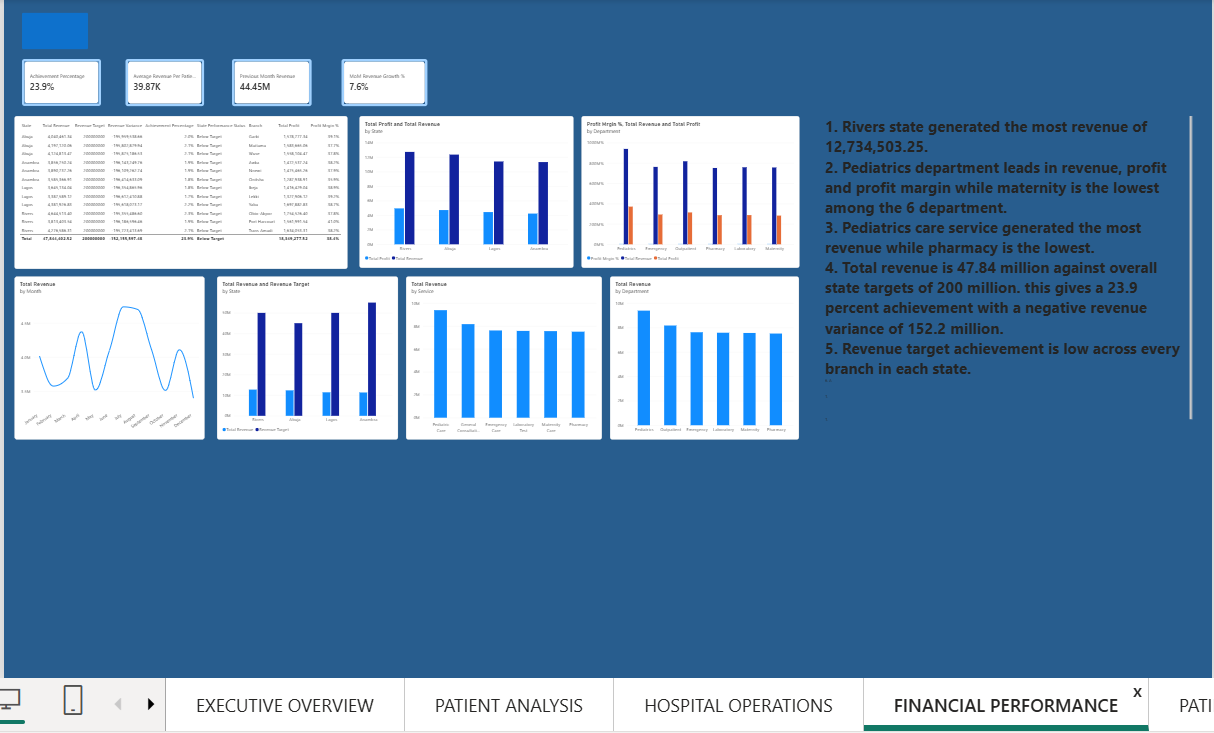

The page's visual inventory and layout, read from the dashboard file:
{"tool":"powerbi","page":{"name":"FINANCIAL PERFORMANCE","canvas":[3840,2160],"ordinal":3},"visuals":[{"type":"cardVisual","fields":{"Data":["Patient_Visits.Achievement Percentage"]},"box":[56.7,190,251.3,149.5],"z":0},{"type":"cardVisual","fields":{"Data":["Patient_Visits.Average Revenue Per Patients"]},"box":[386.7,190,250,150],"z":1000},{"type":"clusteredColumnChart","fields":{"Category":["Patient_Visits.State"],"Y":["Patient_Visits.Total Profit","Patient_Visits.Total Revenue"]},"box":[1129.3,372.2,680.8,483.5],"z":2000},{"type":"clusteredColumnChart","fields":{"Category":["Patient_Visits.Department"],"Y":["Patient_Visits.Total Revenue"]},"box":[1927.8,884.4,601.3,518.5],"z":3000},{"type":"clusteredColumnChart","fields":{"Category":["Patient_Visits.Service"],"Y":["Patient_Visits.Total Revenue"]},"box":[1278.9,884.4,623.5,518.5],"z":4000},{"type":"clusteredColumnChart","fields":{"Category":["Patient_Visits.Department"],"Y":["Patient_Visits.Profit Mrgin %","Patient_Visits.Total Revenue","Patient_Visits.Total Profit"]},"box":[1835.6,372.2,693.5,483.5],"z":5000},{"type":"lineChart","fields":{"Category":["Date_Table.Month"],"Y":["Patient_Visits.Total Revenue"]},"box":[35,884.4,604.4,518.5],"z":6000},{"type":"clusteredColumnChart","fields":{"Category":["State_Targets.State"],"Y":["Patient_Visits.Total Revenue","State_Targets.Revenue Target"]},"box":[677.6,884.4,575.8,518.5],"z":7000},{"type":"tableEx","fields":{"Values":["Patient_Visits.State","Patient_Visits.Total Revenue","State_Targets.Revenue Target","Patient_Visits.Revenue Variance","Patient_Visits.Achievement Percentage","State_Targets.State Performance Status","Patient_Visits.Branch","Patient_Visits.Total Profit","Patient_Visits.Profit Mrgin %"]},"box":[35,372.2,1059.3,486.7],"z":8000},{"type":"cardVisual","fields":{"Data":["Date_Table.MoM Revenue Growth %"]},"box":[1073.3,190,273.3,150],"z":9001},{"type":"cardVisual","fields":{"Data":["Date_Table.Previous Month Revenue"]},"box":[723.3,190,253.3,150],"z":9002},{"type":"actionButton","box":[57.3,41.4,210,117.7],"z":9003},{"type":"textbox","box":[2610.2,372.2,1169.1,1030.7],"z":9004}]}

Visuals, with their boxes on the page's 3840x2160 design canvas (x1, y1, x2, y2). These are canvas units, not pixel positions in the 1214x733 screenshot, which may show the page scaled, cropped or inside an application window:
cardVisual - Patient_Visits.Achievement Percentage: crop(57, 190, 308, 340)
cardVisual - Patient_Visits.Average Revenue Per Patients: crop(387, 190, 637, 340)
clusteredColumnChart - Patient_Visits.State x Patient_Visits.Total Profit: crop(1129, 372, 1810, 856)
clusteredColumnChart - Patient_Visits.Department x Patient_Visits.Total Revenue: crop(1928, 884, 2529, 1403)
clusteredColumnChart - Patient_Visits.Service x Patient_Visits.Total Revenue: crop(1279, 884, 1902, 1403)
clusteredColumnChart - Patient_Visits.Department x Patient_Visits.Profit Mrgin %: crop(1836, 372, 2529, 856)
lineChart - Date_Table.Month x Patient_Visits.Total Revenue: crop(35, 884, 639, 1403)
clusteredColumnChart - State_Targets.State x Patient_Visits.Total Revenue: crop(678, 884, 1253, 1403)
tableEx - Patient_Visits.State x Patient_Visits.Total Revenue: crop(35, 372, 1094, 859)
cardVisual - Date_Table.MoM Revenue Growth %: crop(1073, 190, 1347, 340)
cardVisual - Date_Table.Previous Month Revenue: crop(723, 190, 977, 340)
actionButton: crop(57, 41, 267, 159)
textbox: crop(2610, 372, 3779, 1403)
